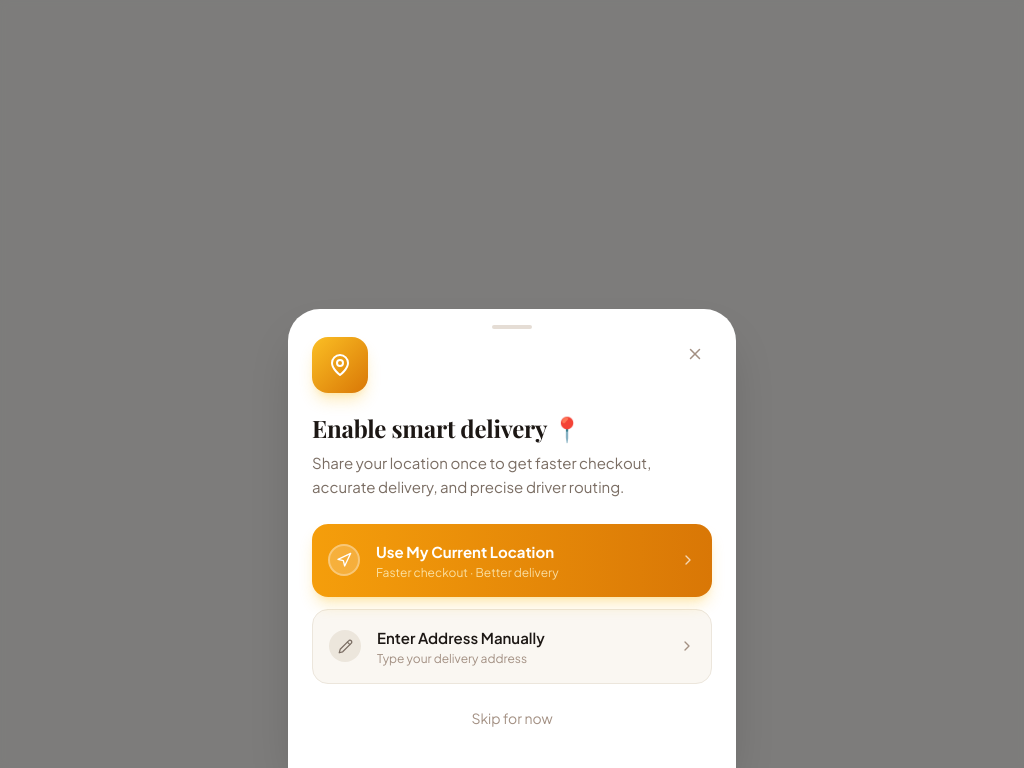
Test: [LocationPopup] › should switch to manual form when clicking Enter Address Manually
The width and height of the screenshot is (1024, 768).
Click the text "Enter Address Manually". click: (461, 637)
box: [377,626,545,649]
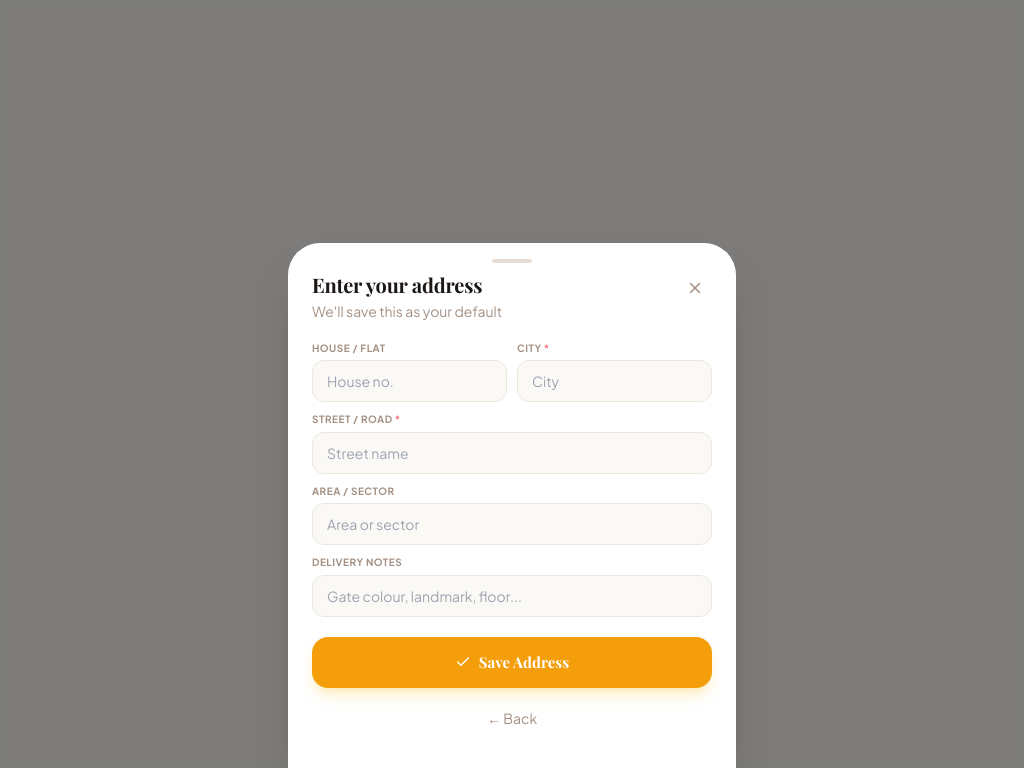
Expected: the heading "Enter your address" is shown, [312,271,502,299]
Expected: the field with placeholder "Street name" is shown, [312,432,712,474]
Expected: the field with placeholder "City" is shown, [517,360,712,402]
